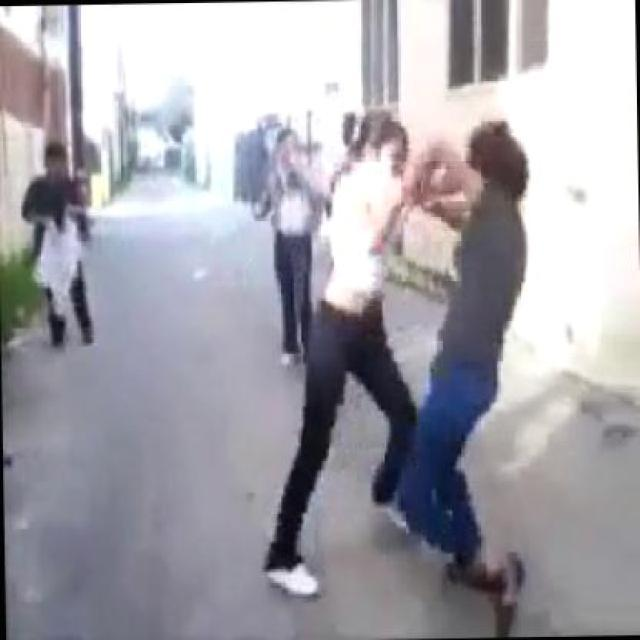fight: (277, 102, 532, 636)
non-fight: (23, 140, 97, 346)
